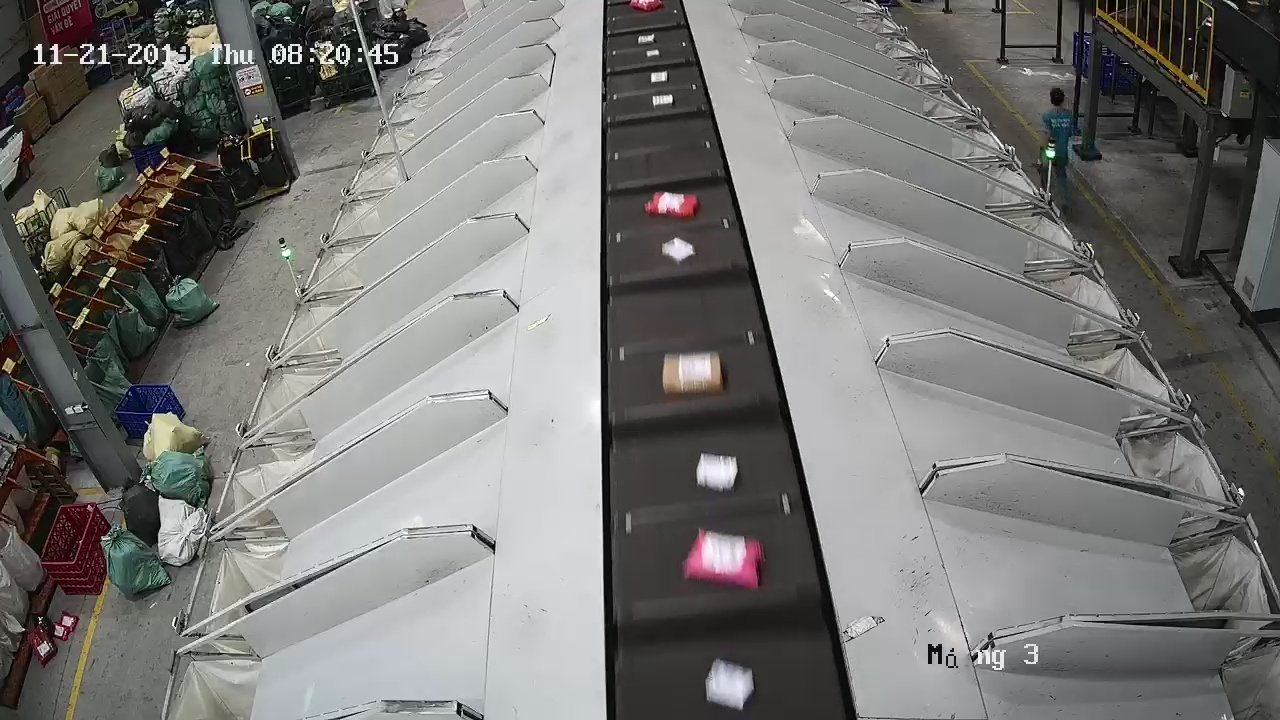parcel: (680, 526, 770, 591), (660, 347, 728, 398), (696, 447, 738, 493)
